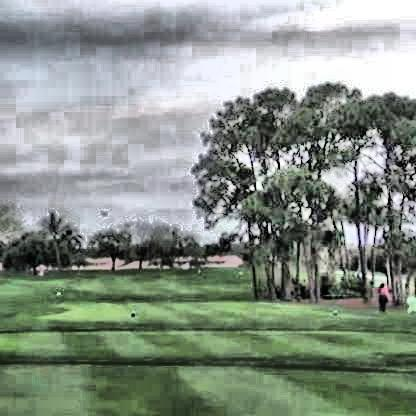golfball: (99, 206, 108, 215)
